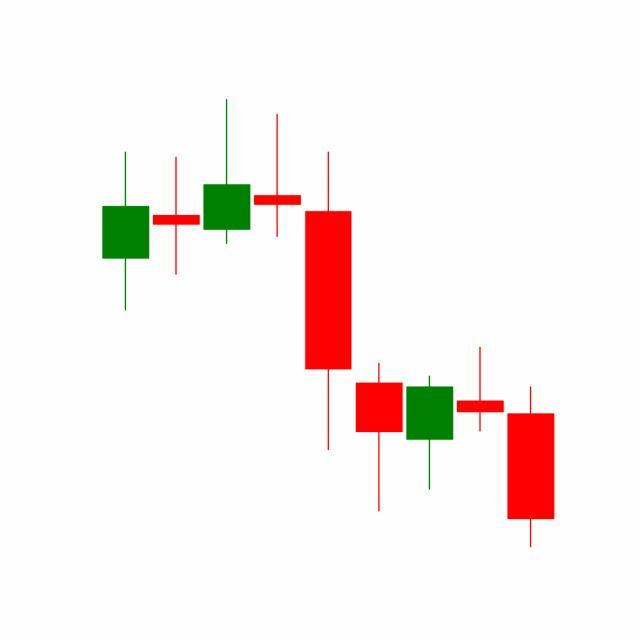Hikkake Pattern: (252, 110, 506, 517)
